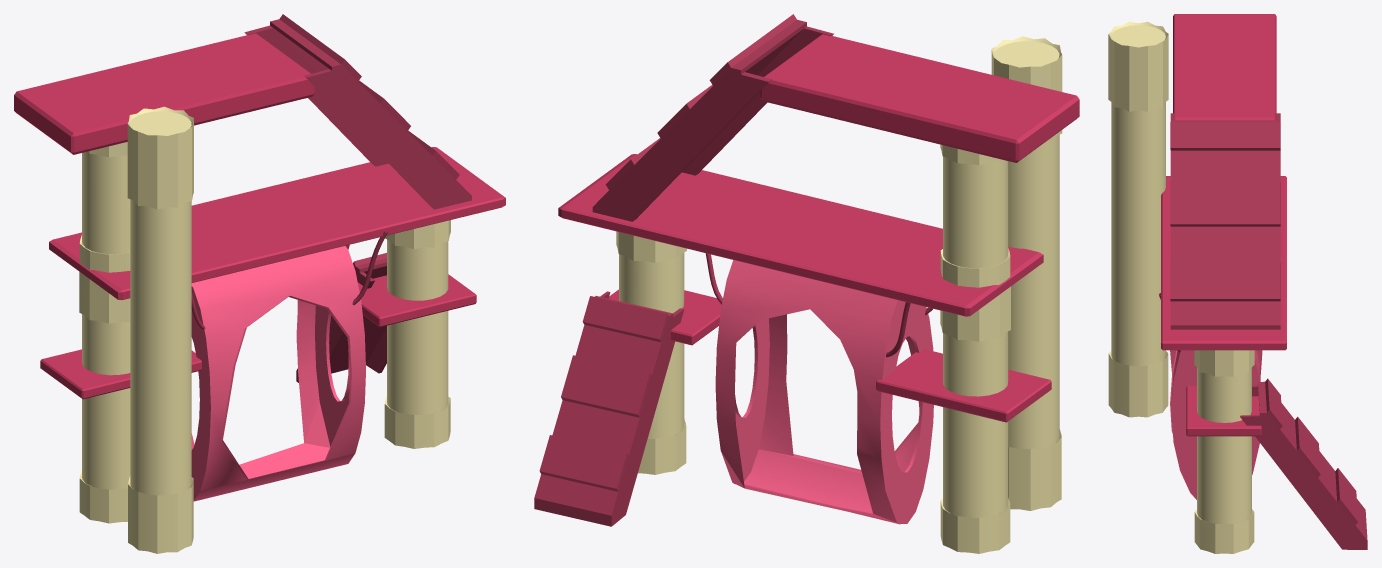
Rendered from SM_house_2.fbx.
3 renders of one model, left to right at view 1: azimuth 30°, elevation 25°; view 2: azimuth 150°, elevation 25°; view 3: azimuth 270°, elevation 25°, orthographic. The views are drawn at different scales.
Parts seen in each view (by area): view 1: SM_house_2; view 2: SM_house_2; view 3: SM_house_2.
Part boxes in pixels (bbox=[...]): SM_house_2: bbox=[14, 14, 505, 553]; SM_house_2: bbox=[534, 14, 1079, 553]; SM_house_2: bbox=[1108, 14, 1367, 553].
Size of the model in its own units: 1275 by 2159 by 2068.
